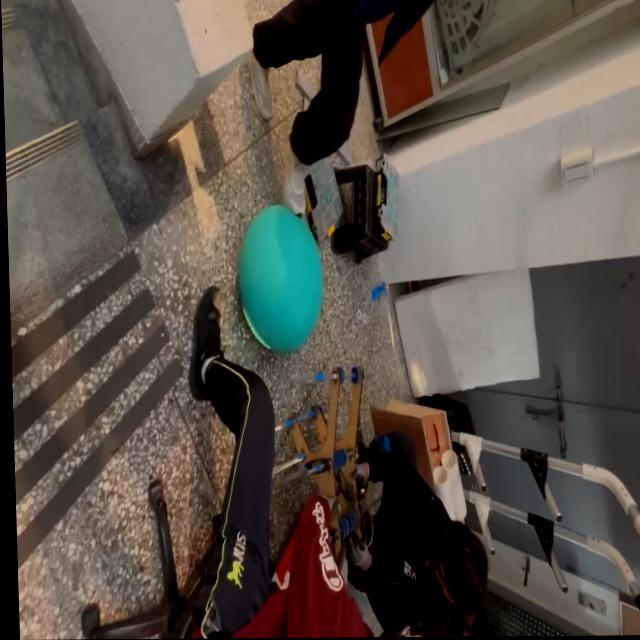ALGAE: (233, 201, 326, 355)
